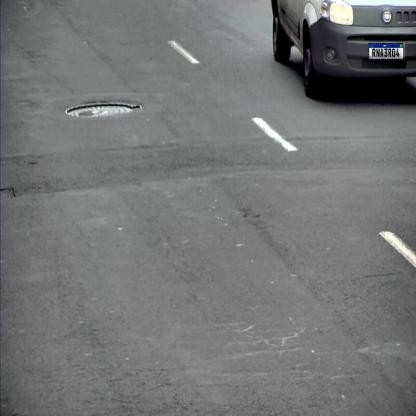PlacaM: (368, 43, 404, 60)
